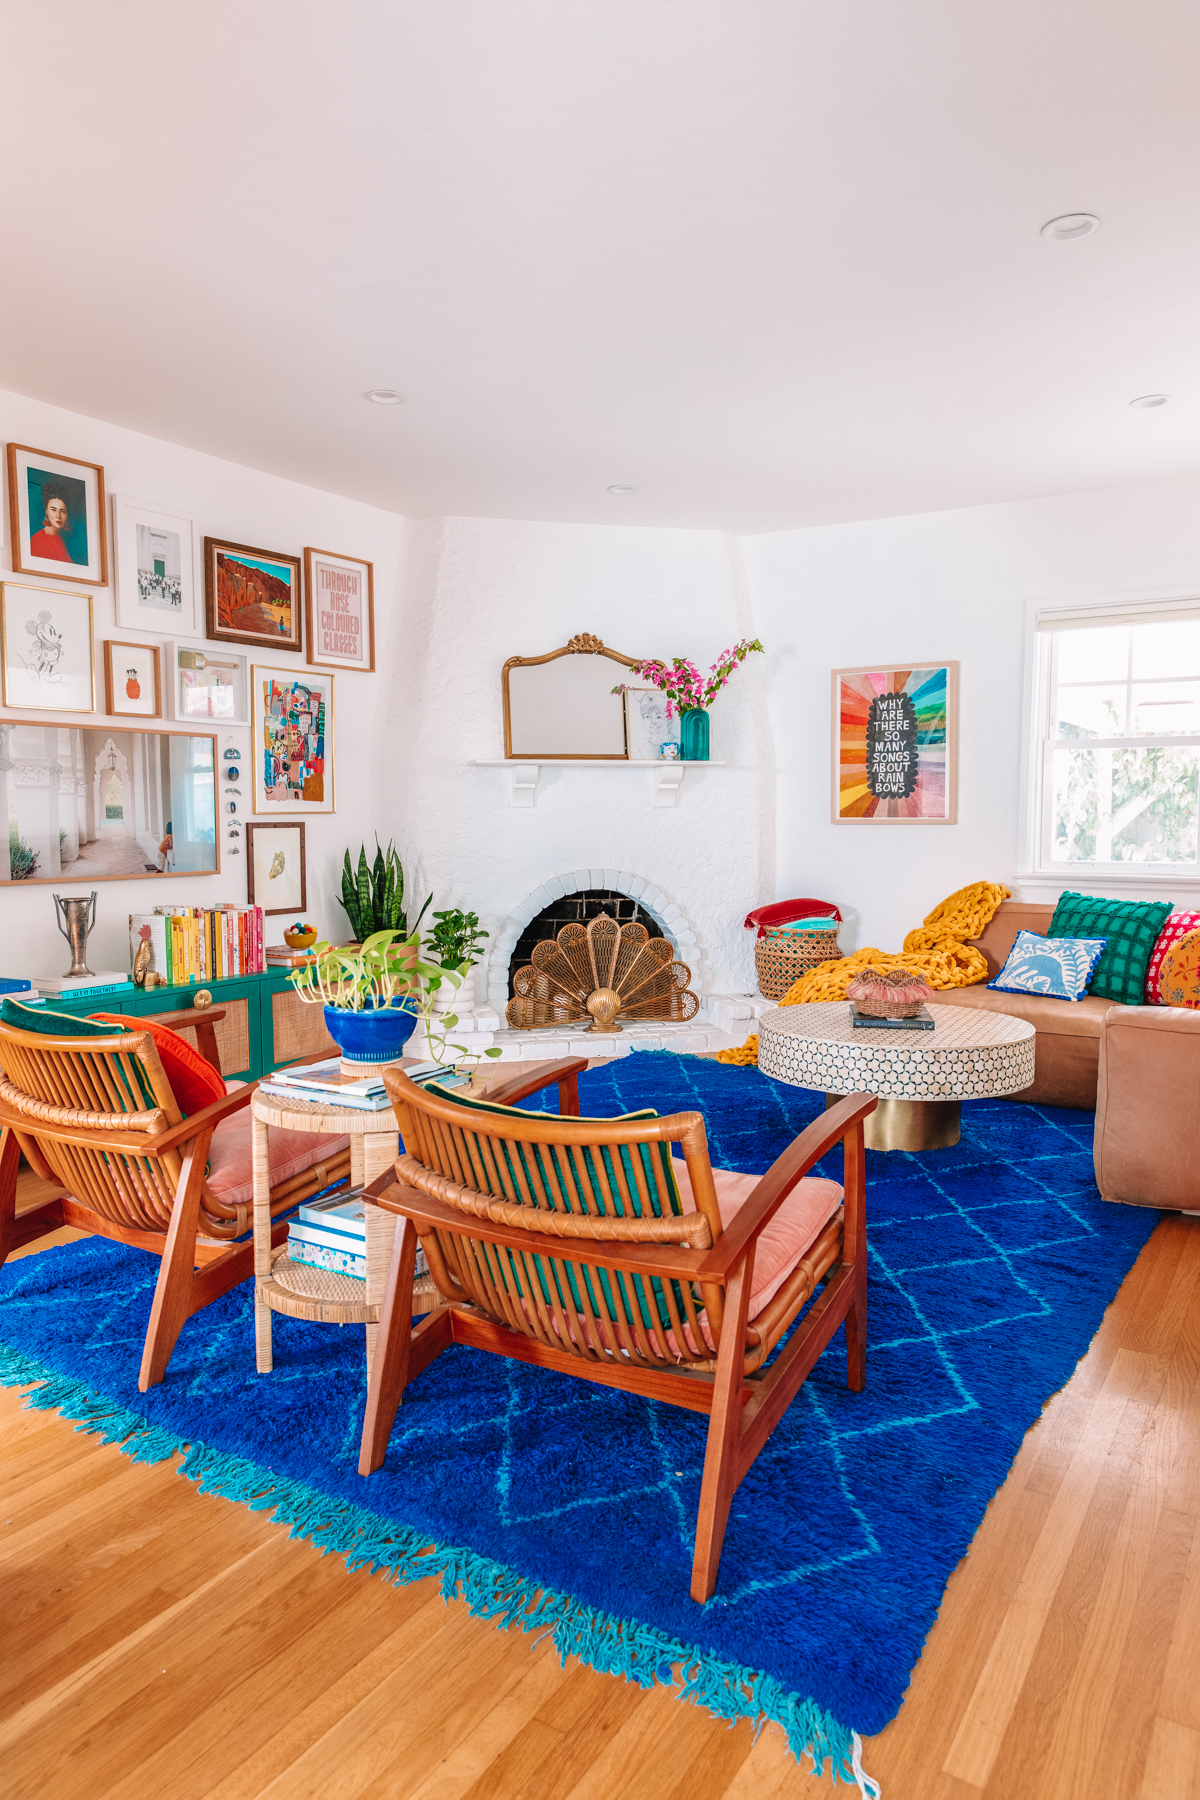biru: (321, 1014, 412, 1053)
coklat: (366, 1071, 749, 1416), (1, 1027, 200, 1266)
hijau: (1051, 896, 1153, 996), (682, 710, 711, 765)
